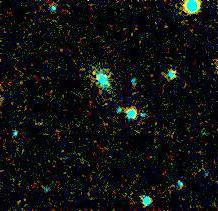star: (79, 58, 109, 88)
